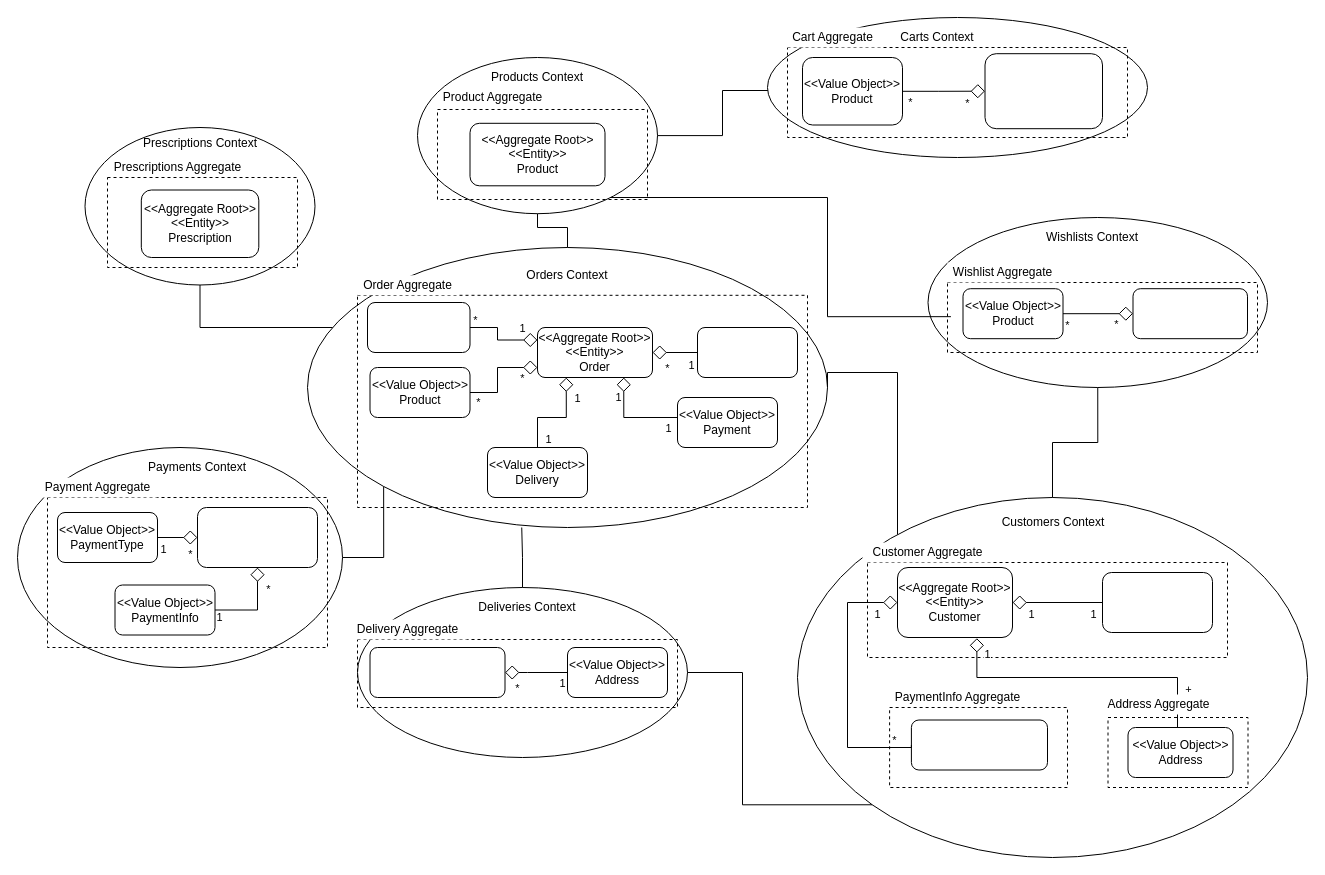
Image size: 1325x875. Some labels were removed from this diagram. The centre of each missing label's shape, as x and y in pixels:
"<<Aggregate Root>> <<Entity>> Cart" belongs at pixel 1043 91.
"<<Aggregate Root>> <<Entity>> Delivery" belongs at pixel 437 672.
"<<Aggregate Root>> <<Entity>> Payment" belongs at pixel 257 537.
"<<Aggregate Root>> <<Entity>> PaymentInfo" belongs at pixel 979 744.
"<<Aggregate Root>> <<Entity>> Wishlist" belongs at pixel 1190 313.
"<<Value Object>> Customer" belongs at pixel 747 352.
"<<Value Object>> Prescription" belongs at pixel 418 327.
"<<Value Object>> Wishlist" belongs at pixel 1157 602.
